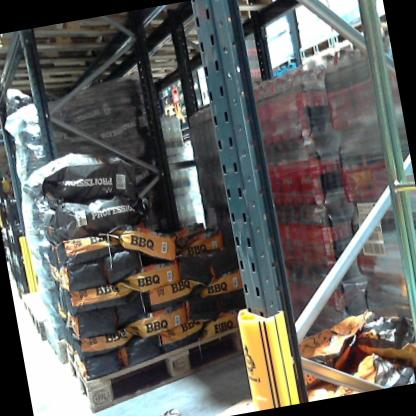pallet: (63, 311, 256, 416), (0, 42, 119, 103), (0, 19, 120, 75), (325, 13, 380, 50), (42, 317, 77, 371), (293, 46, 340, 77), (284, 37, 338, 61), (30, 298, 57, 339), (19, 290, 50, 322), (172, 113, 195, 126), (163, 105, 176, 115)
